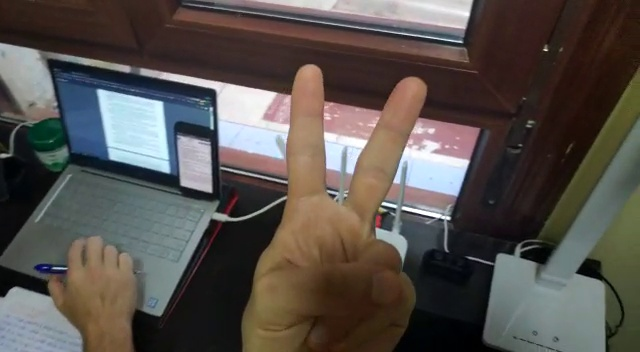Peace: (257, 61, 430, 352)
